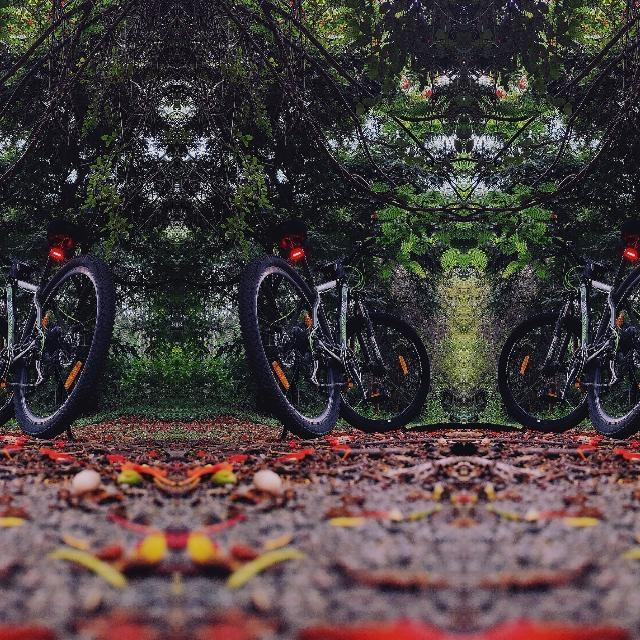obstacle: (221, 206, 449, 462), (479, 206, 640, 461), (0, 206, 131, 461)
